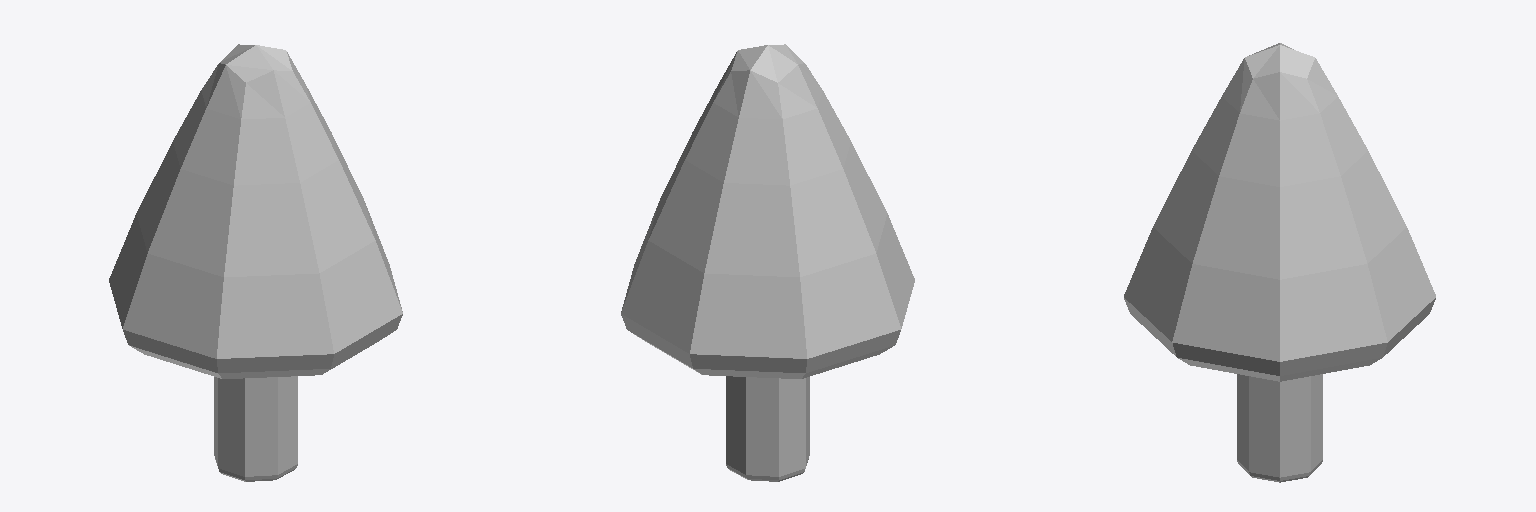
File: Candy_Corn_Tree_Low.obj
The picture shows the model from 3 angles: view 1: azimuth 30°, elevation 25°; view 2: azimuth 150°, elevation 25°; view 3: azimuth 270°, elevation 25°; orthographic projection.
Parts seen in each view (by area): view 1: Leaves, Trunk; view 2: Leaves, Trunk; view 3: Leaves, Trunk.
Boxes of the visible parts, x1=… form: Leaves: x1=109, y1=44, x2=402, y2=378; Trunk: x1=214, y1=376, x2=297, y2=481; Leaves: x1=621, y1=44, x2=914, y2=378; Trunk: x1=726, y1=376, x2=809, y2=481; Leaves: x1=1124, y1=43, x2=1435, y2=381; Trunk: x1=1237, y1=374, x2=1322, y2=482.
Size of the model in its own units: 83.77 by 127 by 85.05.